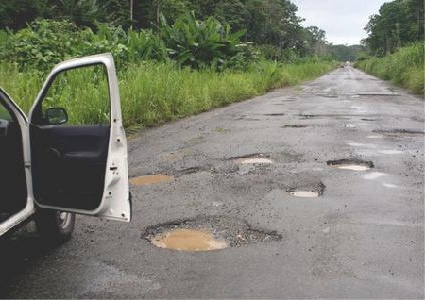pothole: (138, 211, 284, 252), (127, 166, 181, 185), (325, 156, 376, 172), (287, 180, 327, 199), (231, 152, 275, 166), (373, 126, 424, 138), (280, 120, 310, 129)
